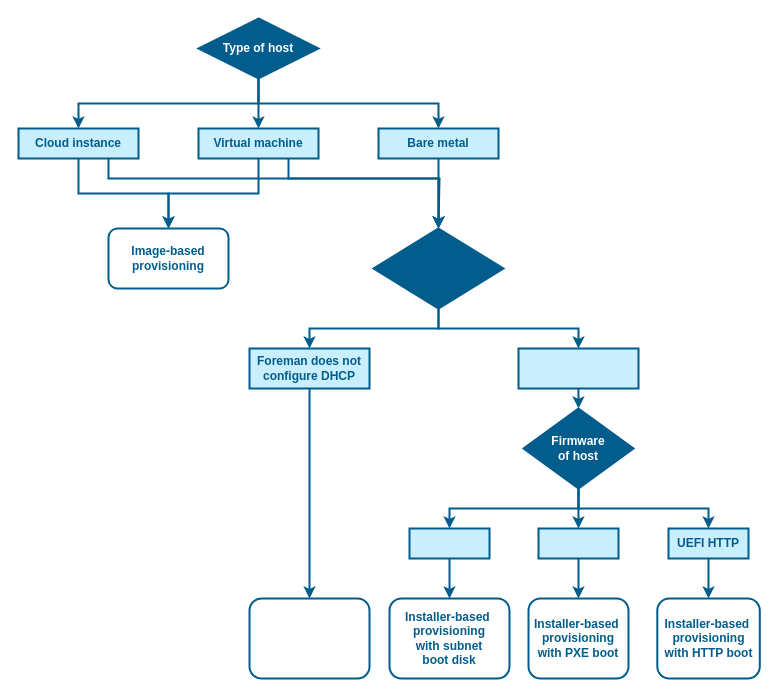
This 778x696 diagram has some shape labels left out. The shapes that lost their labels are listed below. From the top down, each one's box as (x1, y1, x2, y2) in pixels, then its label:
(372, 227, 504, 309): Network configuration
(517, 347, 639, 389): Foreman configures DHCP
(408, 527, 490, 559): No PXE
(537, 527, 619, 559): PXE
(248, 597, 370, 679): Installer-based provisioning with full-host boot disk
